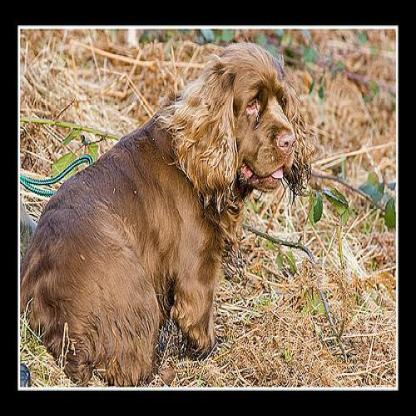Sussex_spaniel: (22, 40, 305, 382)
